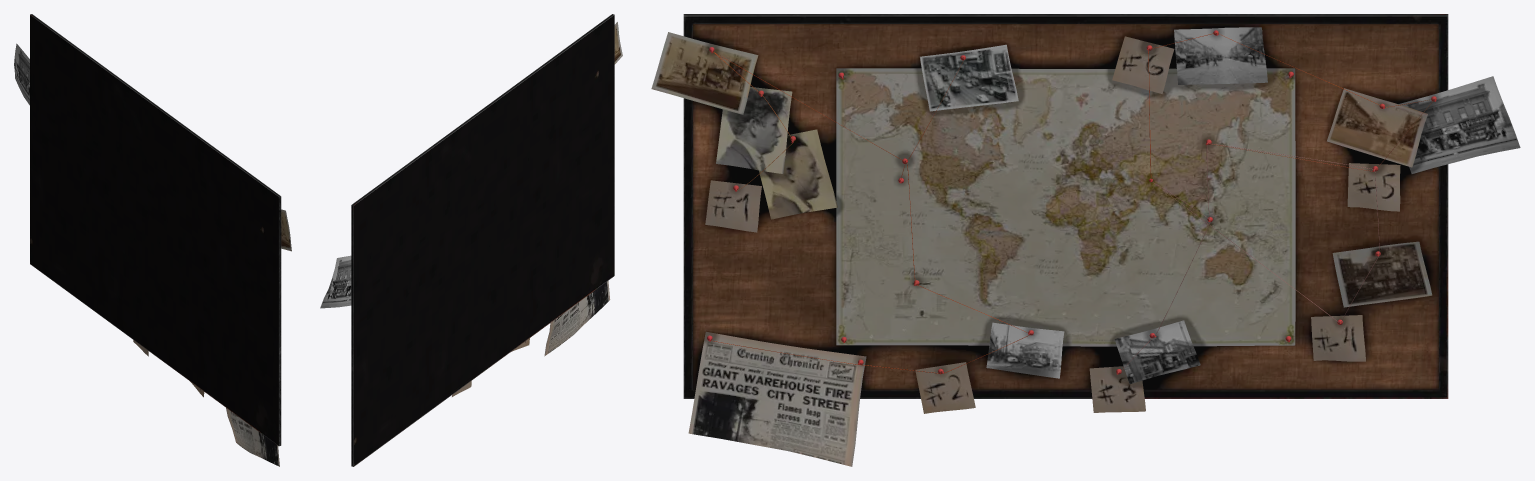
Rendered from investigation_board.optimized.glb.
The picture shows the model from 3 angles, left to right: view 1: azimuth 30°, elevation 25°; view 2: azimuth 150°, elevation 25°; view 3: azimuth 270°, elevation 25°; orthographic projection. The views are drawn at different scales.
Parts seen in each view (by area): view 1: Cube.099__0; view 2: Cube.099__0; view 3: Cube.099__0.
Boxes of the visible parts, x1,y1,x2,y2 form: Cube.099__0: (14, 14, 291, 466); Cube.099__0: (320, 14, 622, 466); Cube.099__0: (651, 14, 1520, 466).
Bounding box in the file's own units: 0.0591 × 1.35 × 2.4.
Materials: 1 (1 with a texture image).
